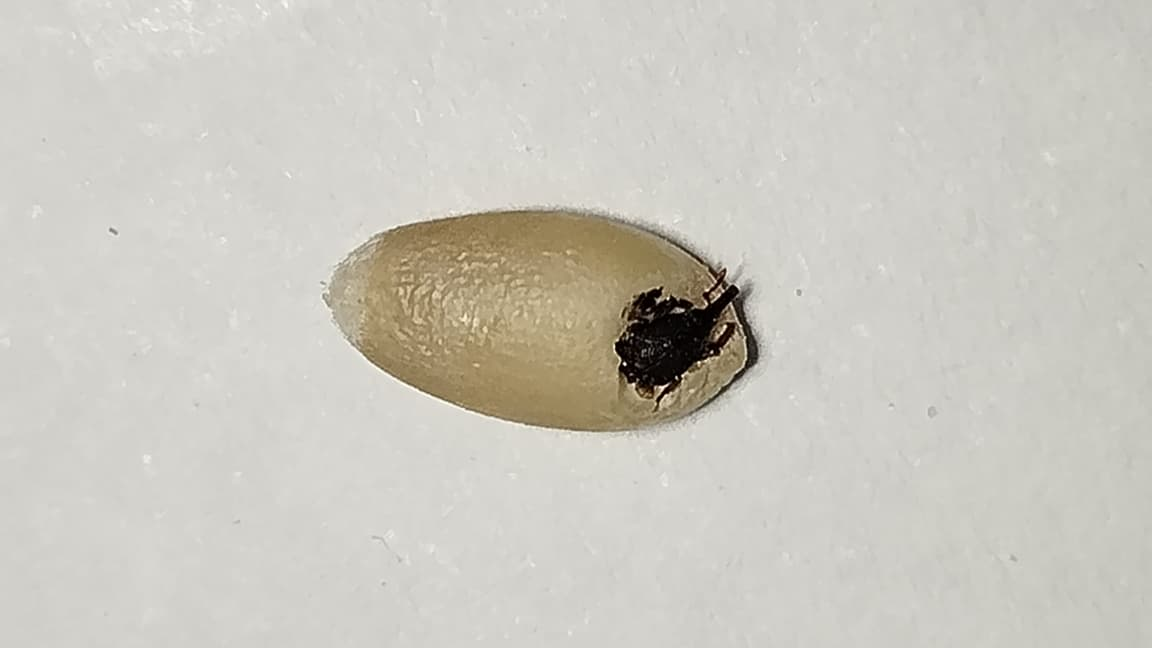damage: (325, 208, 754, 431)
insectdamage: (611, 268, 759, 412)
